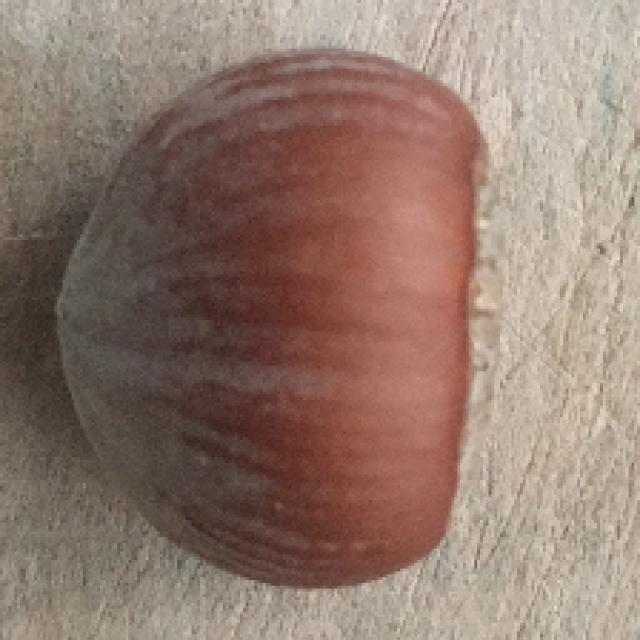qualityHazelnut: (46, 53, 509, 575)
